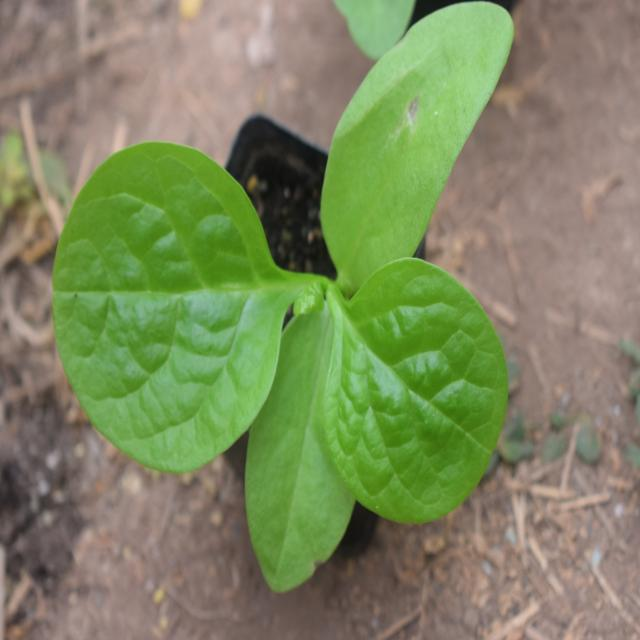Ceylon spinach: (51, 29, 548, 536)
